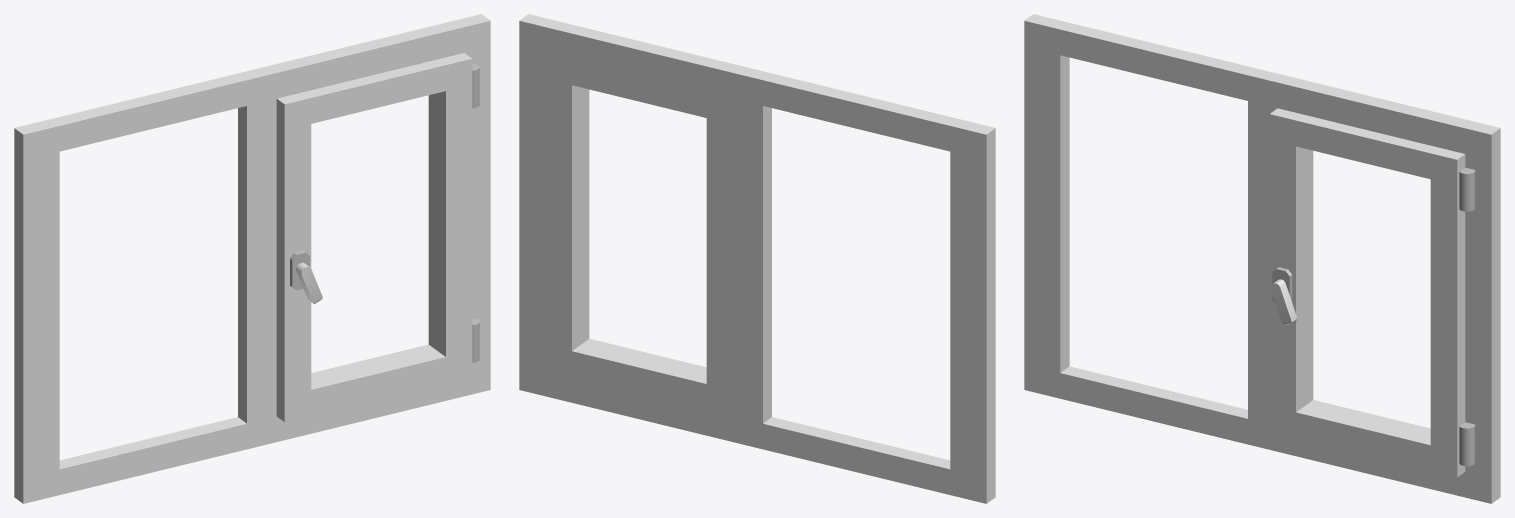
File: Window.fbx
The picture shows the model from 3 angles, left to right: view 1: azimuth 30°, elevation 25°; view 2: azimuth 150°, elevation 25°; view 3: azimuth 330°, elevation 25°; orthographic projection.
Parts seen in each view (by area): view 1: Window; view 2: Window; view 3: Window.
Part boxes in pixels (x1,y1,x2,y2): Window: (14, 14, 490, 503); Window: (519, 14, 995, 503); Window: (1024, 14, 1500, 503).
Size of the model in its own units: 456 by 344 by 42.59.
